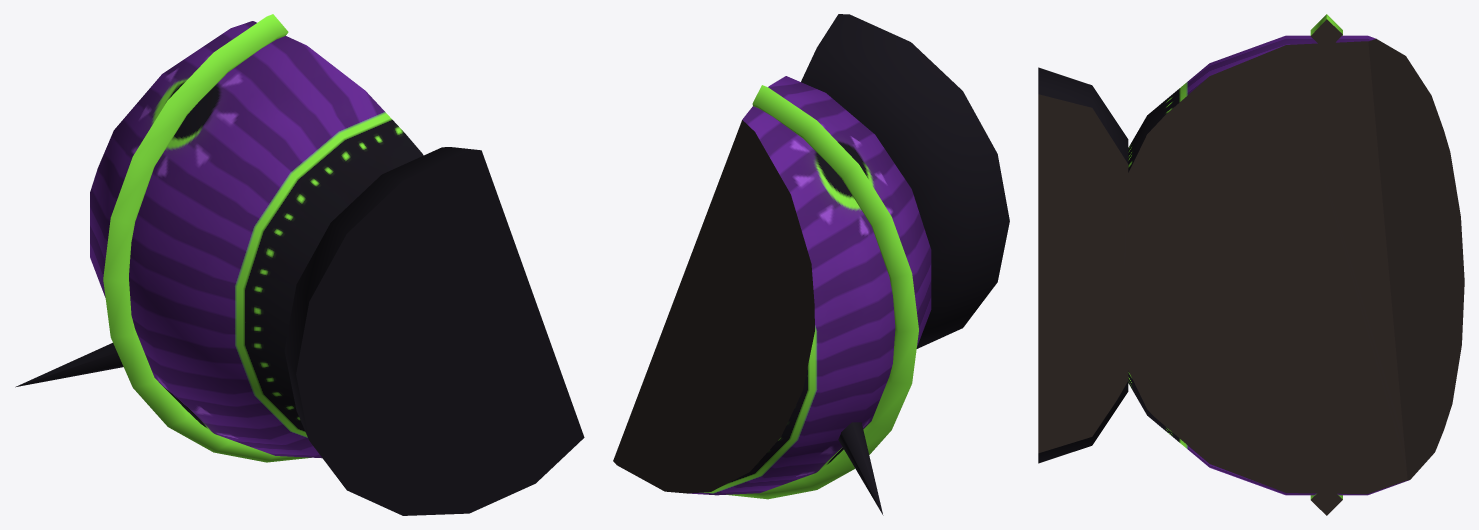
File: dominion_turret_pod_debris2.obj
3 views of the same model, side by side, from view 1: azimuth 30°, elevation 25°; view 2: azimuth 150°, elevation 25°; view 3: azimuth 270°, elevation 25° (orthographic). The views are drawn at different scales.
Parts seen in each view (by area): view 1: collar, orb, band, spike; view 2: orb, collar, band, spike; view 3: orb, collar, band.
Boxes of the visible parts, <box> form: collar: <box>284,147,584,515</box>; orb: <box>90,21,423,458</box>; band: <box>103,14,311,462</box>; spike: <box>15,343,123,387</box>; orb: <box>613,76,931,495</box>; collar: <box>801,14,1009,348</box>; band: <box>726,85,918,499</box>; spike: <box>838,422,883,515</box>; orb: <box>1105,35,1464,495</box>; collar: <box>1038,67,1128,463</box>; band: <box>1310,14,1342,515</box>.
Bounding box in the file's own units: 4.58 × 5.52 × 4.73.
4 materials, 1 textured.
